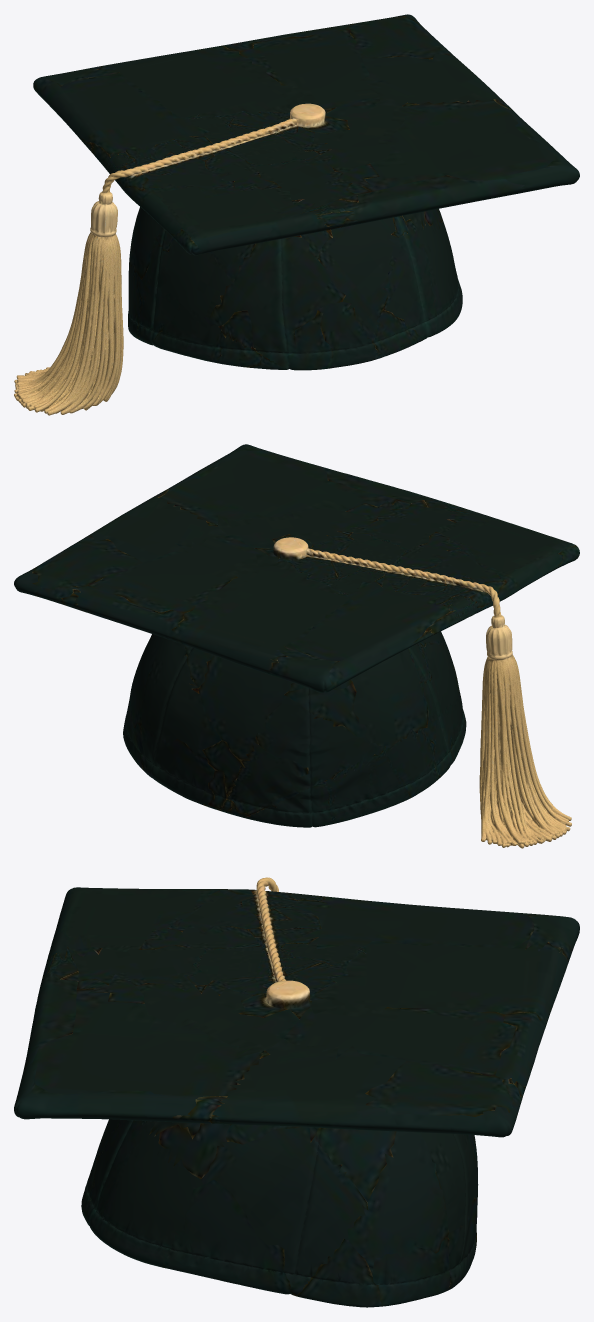
The model's file is cap.glb.
The picture shows the model from 3 angles, top to bottom: view 1: azimuth 30°, elevation 25°; view 2: azimuth 150°, elevation 25°; view 3: azimuth 270°, elevation 25°; orthographic projection. The views are drawn at different scales.
Size of the model in its own units: 1.9 by 0.8727 by 1.6.
Materials: 1 (1 with a texture image).
